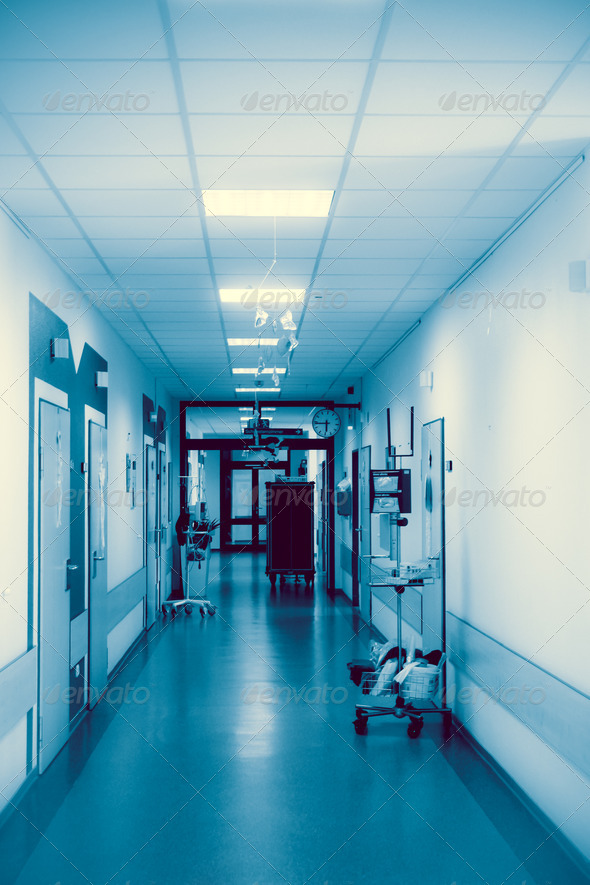door_handle: (96, 545, 110, 580), (63, 559, 77, 579)
